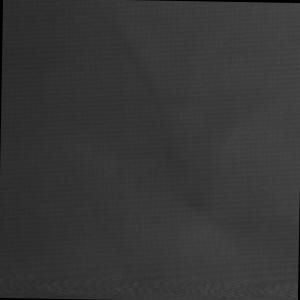Wrinkle: (91, 19, 300, 255)
